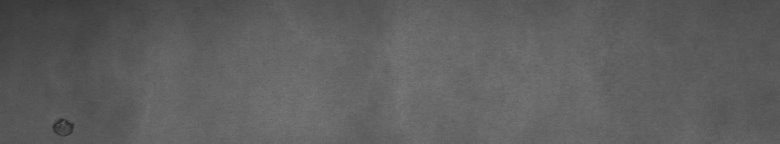fi: (48, 112, 79, 136)
